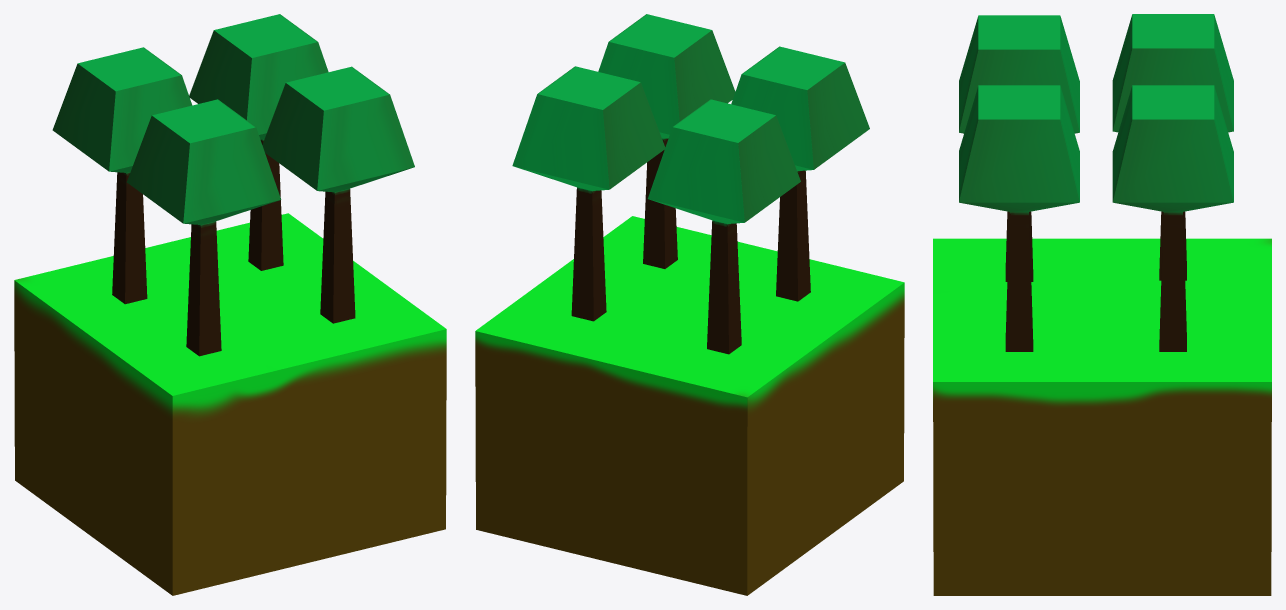
File: jungle.glb
3 views of the same model, side by side, from view 1: azimuth 30°, elevation 25°; view 2: azimuth 150°, elevation 25°; view 3: azimuth 270°, elevation 25° (orthographic). The views are drawn at different scales.
Visible parts, largest first — view 1: Cube; view 2: Cube; view 3: Cube.
Part boxes in pixels (bbox=[...]): Cube: bbox=[14, 14, 446, 595]; Cube: bbox=[475, 14, 904, 595]; Cube: bbox=[933, 14, 1271, 595].
Bounding box in the file's own units: 5.1 × 7.61 × 5.1.
Materials: 2 (2 with a texture image).
